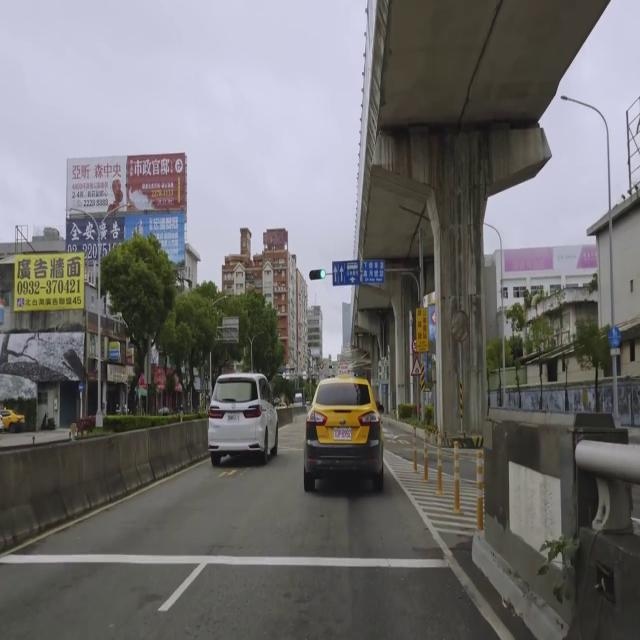green light: (309, 269, 326, 279)
